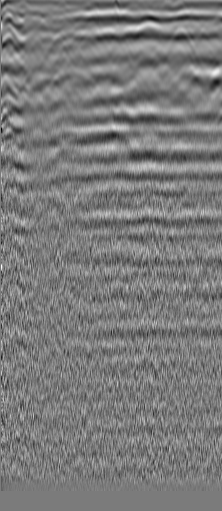오수: (24, 34, 44, 54)
우수: (166, 18, 197, 59)
